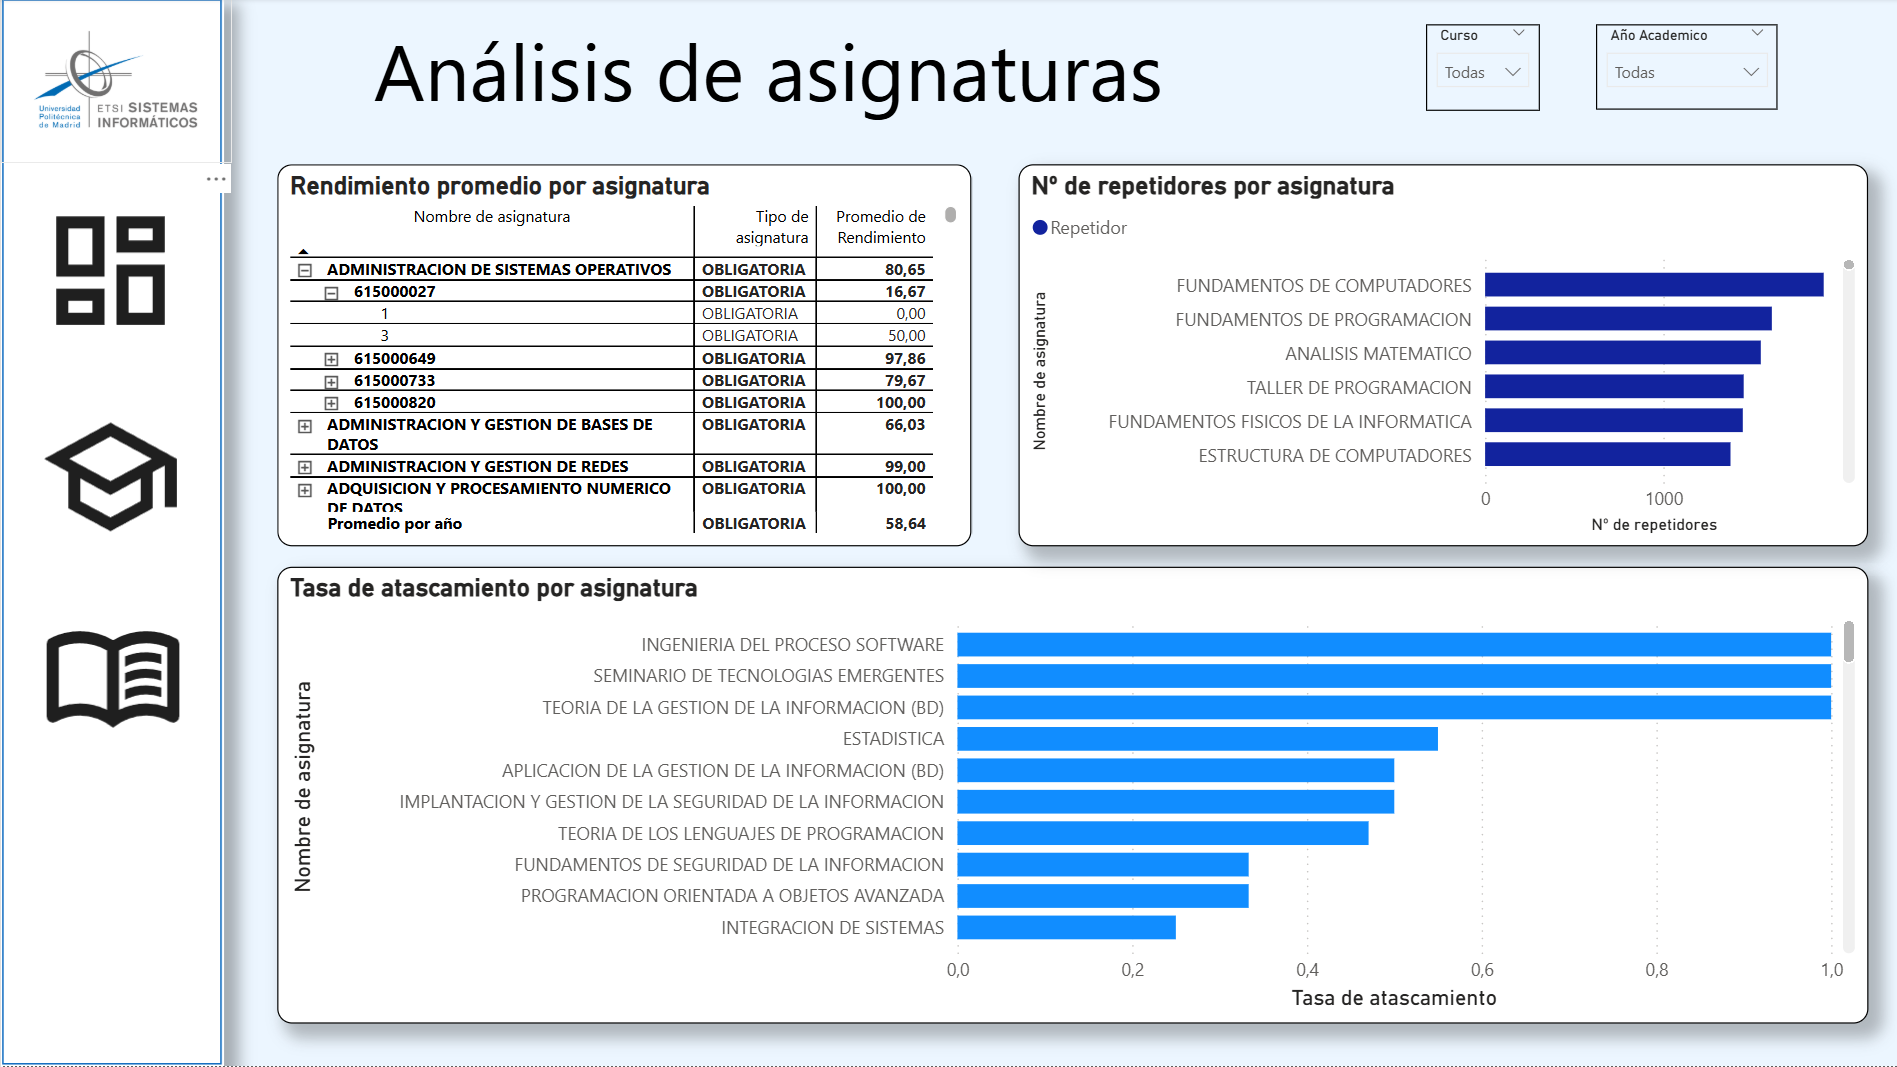

What the dashboard file says about the page in this screenshot:
{"tool":"powerbi","page":{"name":"Página 2","canvas":[1280,720],"ordinal":1},"visuals":[{"type":"shape","box":[0,0,150,720.3],"z":5000},{"type":"image","box":[0,0,156,110.9],"z":6000},{"type":"actionButton","box":[22.4,398.9,105.5,120.8],"z":9000},{"type":"actionButton","box":[21.5,263,105.5,119.9],"z":10000},{"type":"actionButton","box":[21.5,123.4,105.5,120.8],"z":11000},{"type":"textbox","box":[213.4,7.1,608.3,96.7],"z":11002},{"type":"pivotTable","title":"Rendimiento promedio por asignatura","fields":{"Rows":["dim_asignatura.Nombre_Asignatura","dim_asignatura.Codigo_Asignatura","Fact_rendimiento_transformado.Numero_de_Matriculas"],"Values":["Min(dim_asignatura.Tipo_Asignatura)","Avg(Fact_rendimiento_transformado.Rendimiento)"]},"box":[186.1,111.7,468,257.9],"z":11003},{"type":"slicer","title":"Filtro","fields":{"Values":["dim_asignatura.Curso"]},"box":[960.4,18.1,76.5,58.4],"z":11004},{"type":"slicer","title":"Filtro","fields":{"Values":["dim_tiempo.Anio_Academico"]},"box":[1075.1,17.7,122.6,57.8],"z":11005},{"type":"clusteredBarChart","title":"Tasa de atascamiento por asignatura","fields":{"Y":["Fact_rendimiento_transformado.Tasa_Atascamiento"],"Category":["dim_asignatura.Nombre_Asignatura"]},"box":[186.3,383.5,1072.8,307.6],"z":11006},{"type":"clusteredBarChart","title":"Nº de repetidores por asignatura","fields":{"Series":["Fact_rendimiento_transformado.Repetidor_Nuevo"],"Y":["Sum(Fact_rendimiento_transformado.N__Matriculados)"],"Category":["dim_asignatura.Nombre_Asignatura"]},"box":[686,112.1,573.1,257.9],"z":11007}]}

Visuals, with their boxes in screenshot pixels (x1, y1, x2, y2), scaled from the page's 1280x720 canvas onto the 1897x1067 screenshot:
shape: 0,0,222,1066
image: 0,0,231,164
actionButton: 33,591,190,770
actionButton: 32,390,188,567
actionButton: 32,183,188,362
textbox: 316,11,1218,154
"Rendimiento promedio por asignatura" pivotTable: 276,166,969,548
"Filtro" slicer: 1423,27,1537,113
"Filtro" slicer: 1593,26,1775,112
"Tasa de atascamiento por asignatura" clusteredBarChart: 276,568,1866,1024
"Nº de repetidores por asignatura" clusteredBarChart: 1017,166,1866,548
